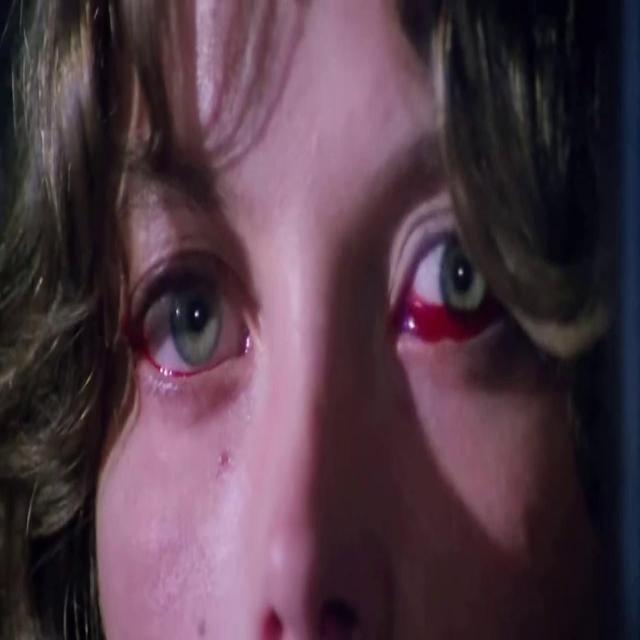flood: (392, 265, 488, 363)
